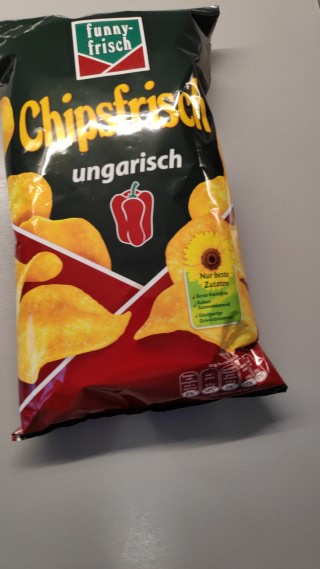chipsfrisch: (1, 4, 288, 441)
